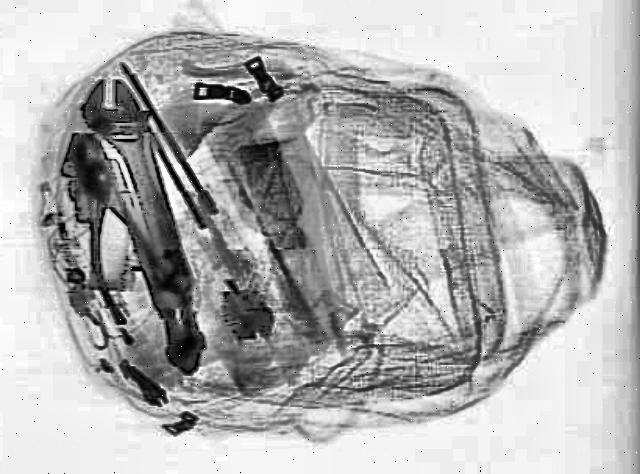Pliers: (50, 128, 178, 330)
Wrench: (74, 77, 220, 311)
